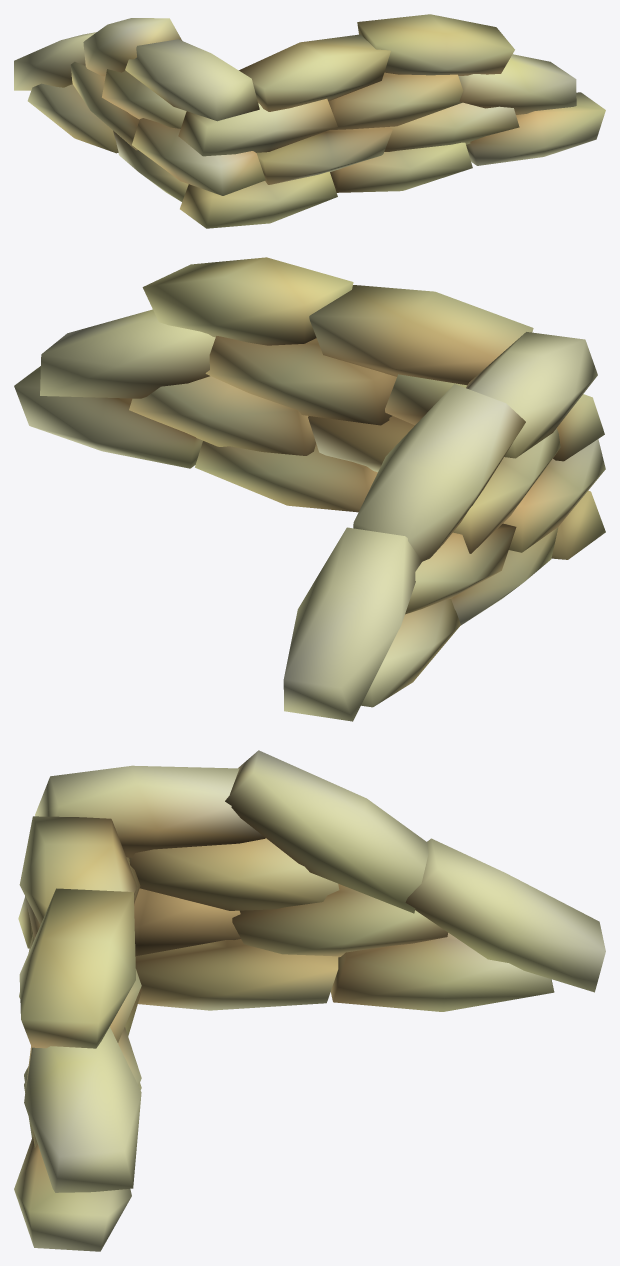
The model's file is sandbags_01_corner_a.dae.
The picture shows the model from 3 angles, top to bottom: view 1: azimuth 30°, elevation 25°; view 2: azimuth 150°, elevation 25°; view 3: azimuth 270°, elevation 25°; orthographic projection. The views are drawn at different scales.
Parts seen in each view (by area): view 1: sandbagsCA8; view 2: sandbagsCA8; view 3: sandbagsCA8.
Part boxes in pixels (left/top/right/bottom): sandbagsCA8: left=14, top=14, right=605, bottom=228; sandbagsCA8: left=14, top=257, right=605, bottom=721; sandbagsCA8: left=14, top=750, right=605, bottom=1251.
Size of what is drawn, in the model's own units: 2.14 by 1.83 by 0.8153.
